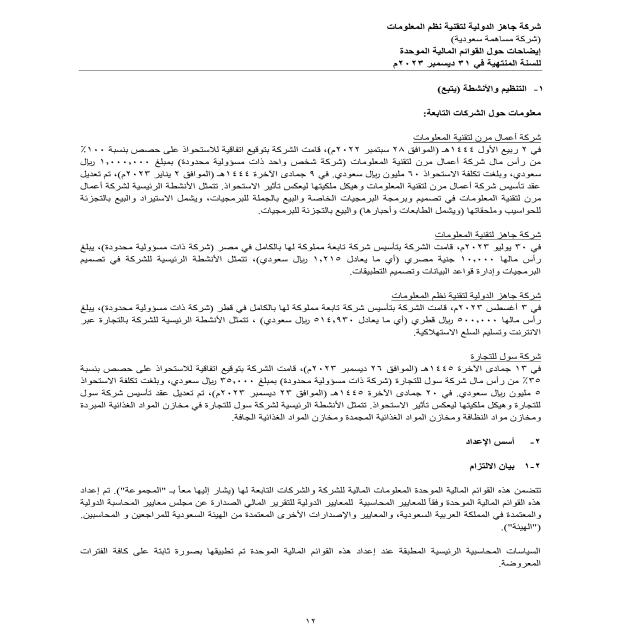notes: (396, 47, 548, 59)
text: (43, 78, 554, 580)
